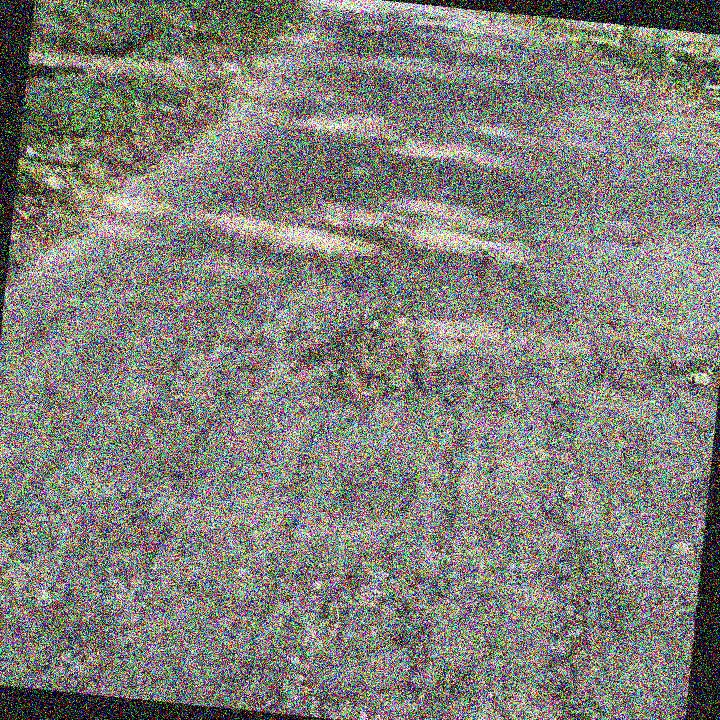pothole: (282, 288, 439, 417), (659, 350, 720, 404)
